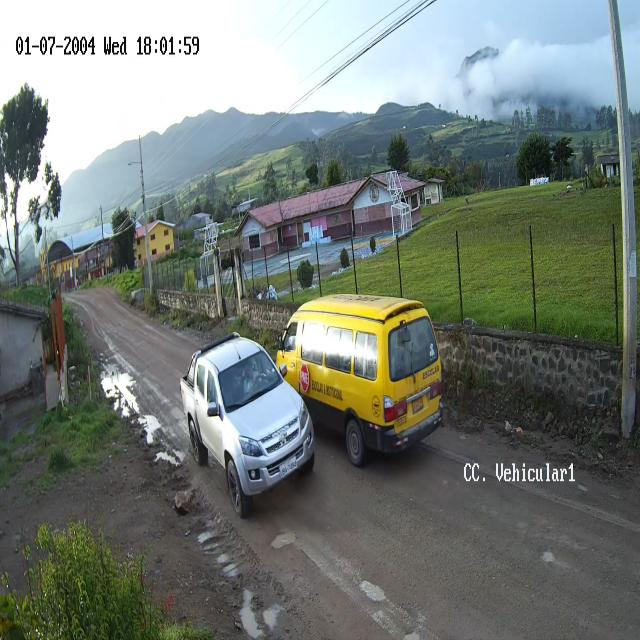BUS: (278, 294, 444, 466)
CMT: (182, 337, 315, 517)
